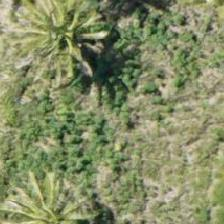coconut_tree: (23, 0, 113, 71), (1, 172, 91, 223)
